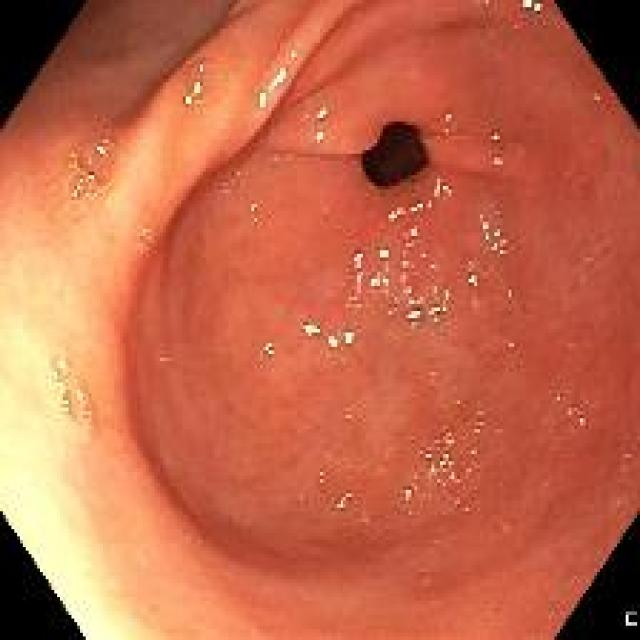bubbles: (44, 347, 97, 439), (67, 130, 119, 204), (181, 50, 220, 104), (137, 224, 158, 248), (333, 492, 350, 513), (403, 487, 416, 506), (83, 407, 93, 423)
contrast: (358, 118, 433, 193)
saturation: (9, 363, 124, 633)
specularity: (389, 173, 449, 224), (478, 207, 506, 270), (371, 245, 392, 302), (424, 450, 458, 485), (349, 241, 364, 308), (330, 488, 357, 517), (613, 445, 634, 479), (322, 329, 341, 360), (265, 65, 286, 93), (282, 43, 303, 70), (340, 320, 357, 353), (402, 306, 423, 332), (299, 318, 323, 340), (428, 301, 450, 325), (462, 272, 496, 287), (399, 482, 420, 505), (259, 338, 276, 366), (497, 332, 519, 353), (306, 123, 325, 147), (334, 348, 352, 373), (255, 87, 271, 115), (440, 106, 457, 131), (487, 149, 507, 170), (484, 122, 501, 145), (521, 1, 544, 18), (247, 197, 261, 224), (311, 103, 328, 121), (503, 285, 517, 305), (72, 384, 84, 403), (406, 224, 420, 239), (70, 183, 82, 199), (60, 397, 71, 412), (58, 357, 68, 373), (192, 77, 202, 92), (184, 93, 193, 107), (95, 145, 106, 154), (50, 367, 57, 380), (579, 417, 586, 429), (86, 171, 95, 180), (197, 66, 205, 75)
